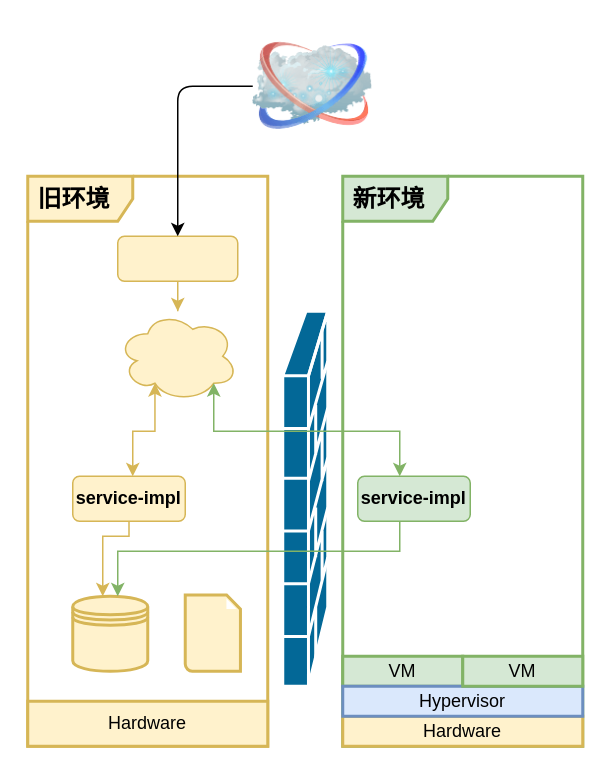
Image size: 609x773. Some labels were removed from this diagram. Each missing label, with the centre of its shape:
"DB" goes at point (109, 633).
"frontend" goes at point (177, 258).
"FTP" goes at point (212, 632).
"MQ" goes at point (177, 355).
